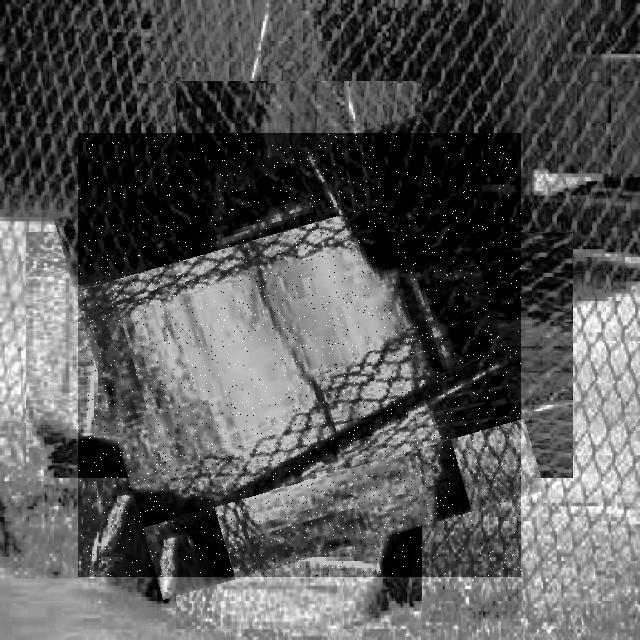anomaly-fence: (78, 133, 521, 577)
